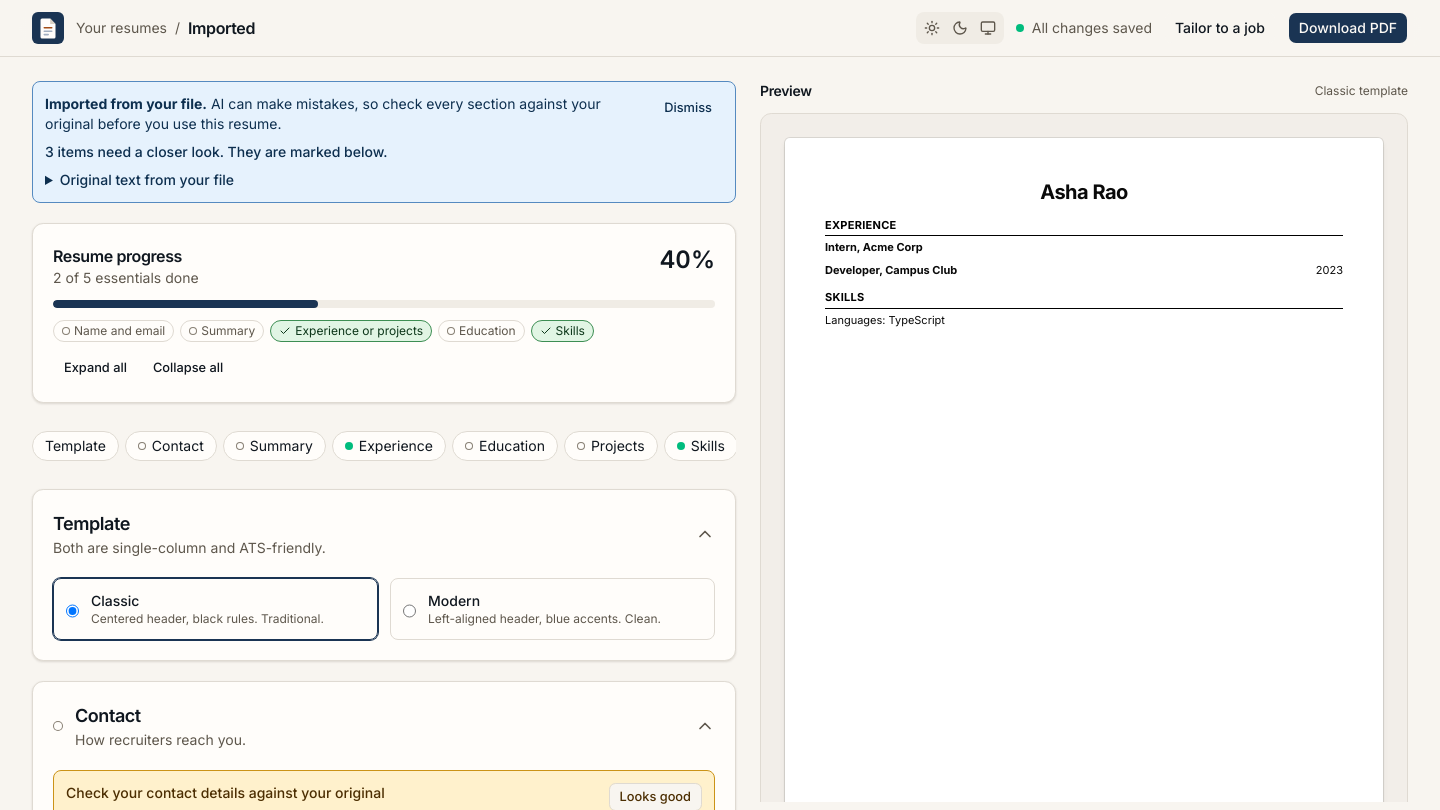
Test: editor review of an imported resume › removes the count once everything has been checked
This screenshot has width=1440, height=810.
Click the button "Looks good" at (655, 797), box x1=608 y1=783 x2=702 y2=809
(page scrolled)
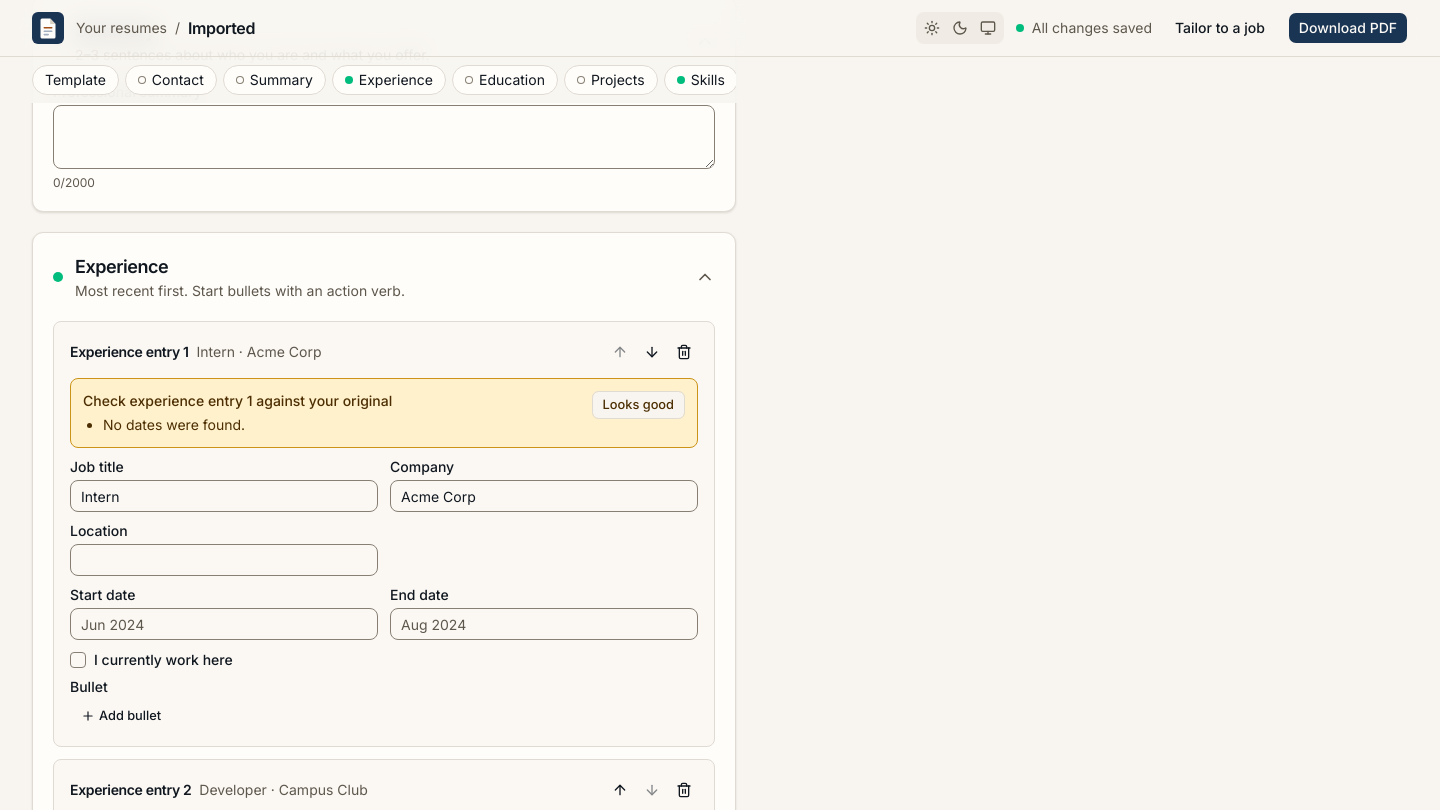
Click the button "Looks good" at (638, 405), box x1=592 y1=391 x2=685 y2=419
(page scrolled)
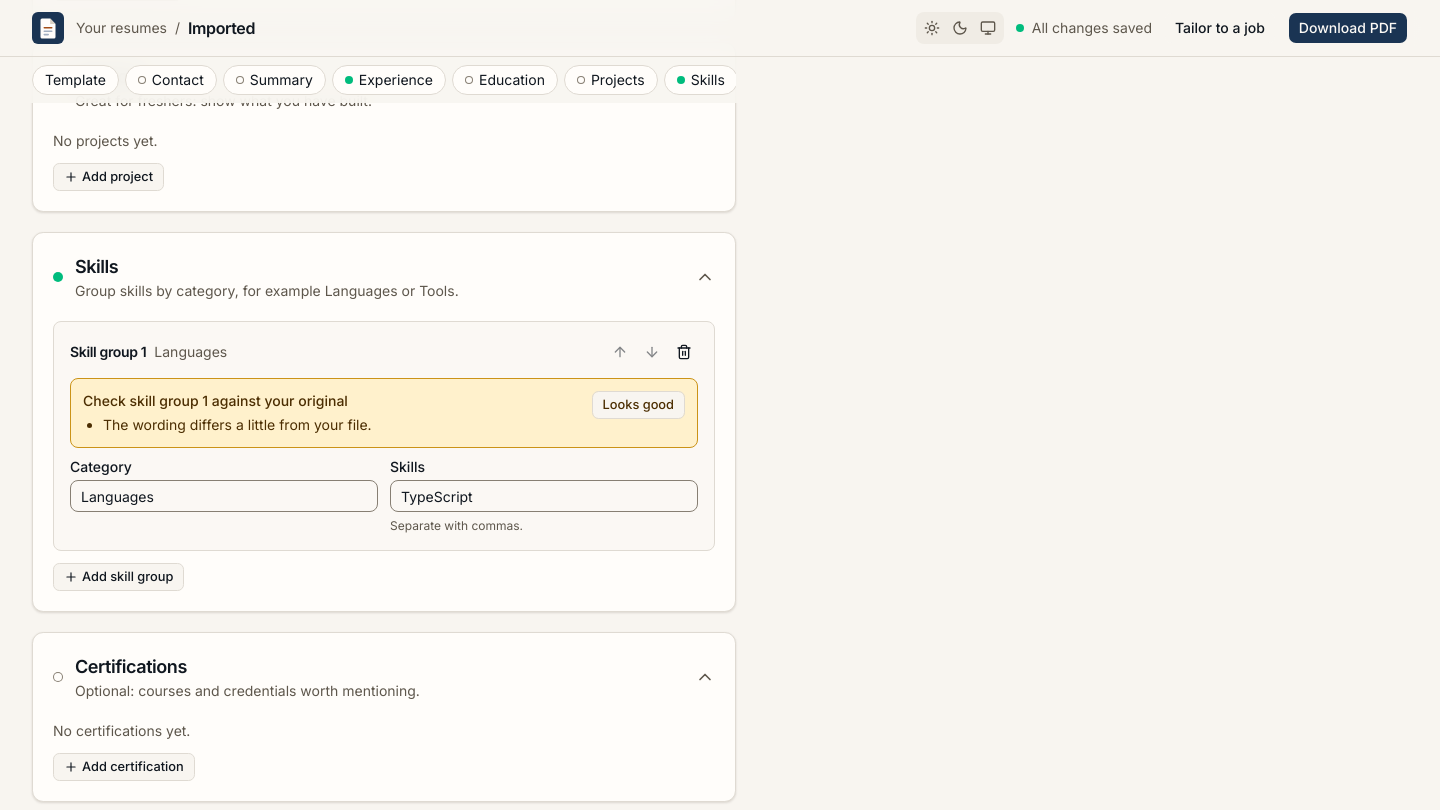
Click the button "Looks good" at (638, 405), box x1=592 y1=391 x2=685 y2=419
(page scrolled)
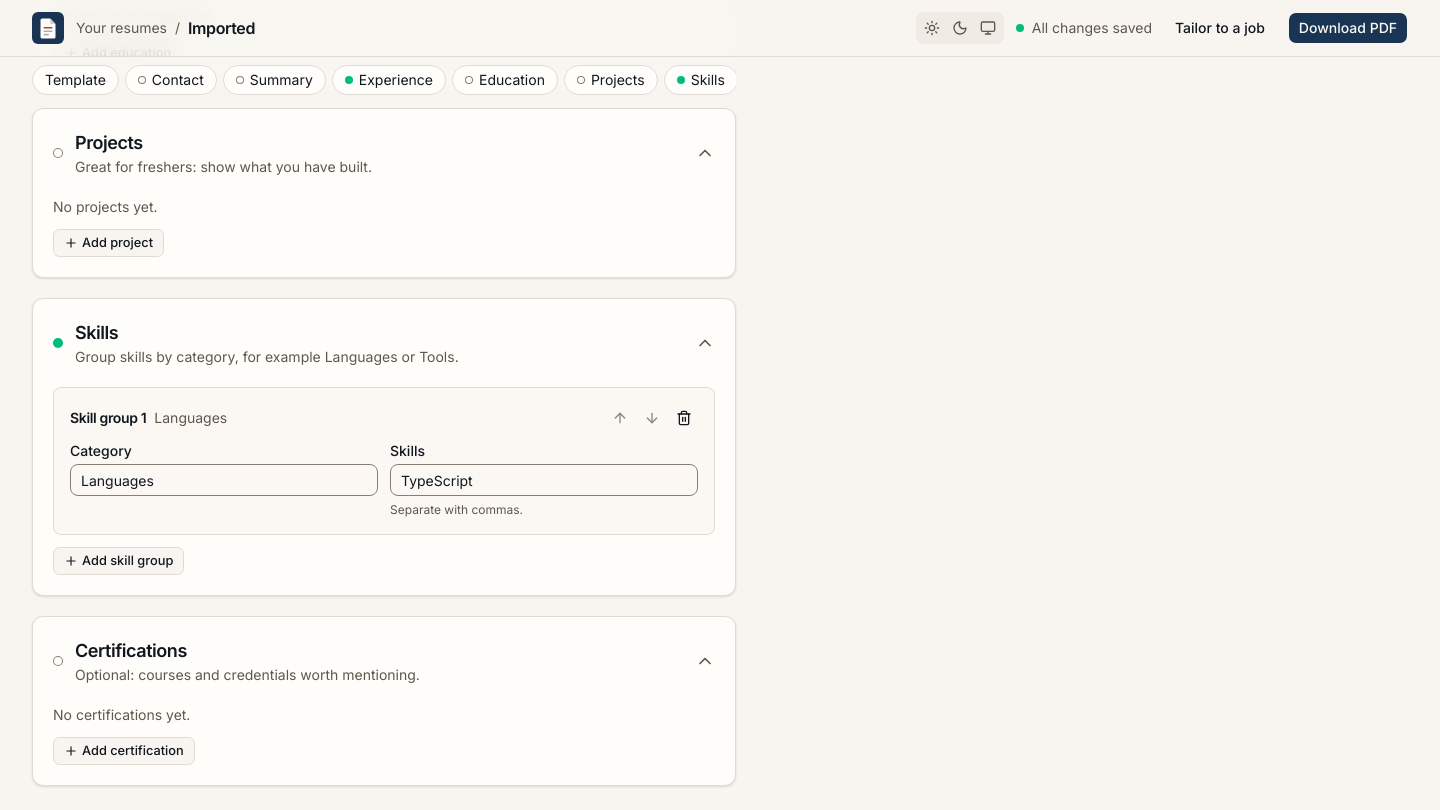
Result: no elements with test id "review-note" are shown
